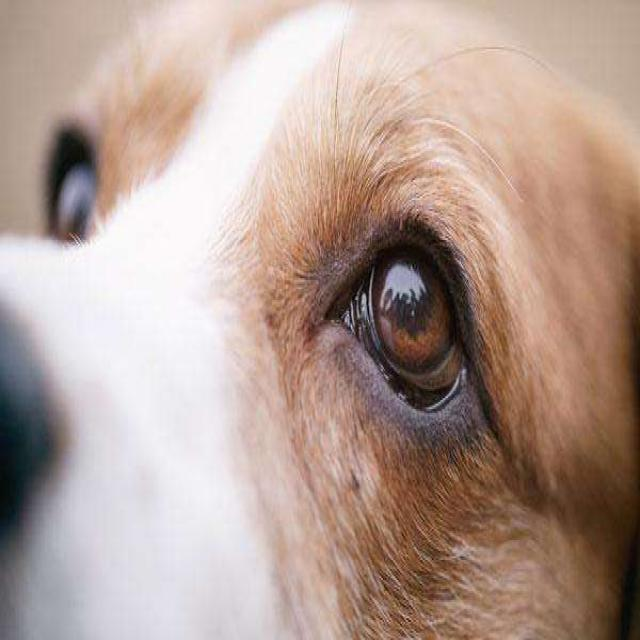eye: (322, 214, 477, 422), (48, 150, 99, 246)
